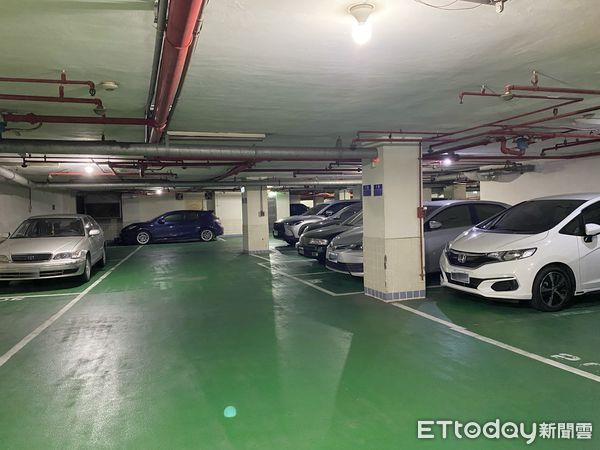car: (436, 195, 600, 319), (328, 194, 502, 277), (1, 197, 110, 284), (116, 208, 231, 244), (294, 209, 355, 263), (270, 205, 305, 244)
